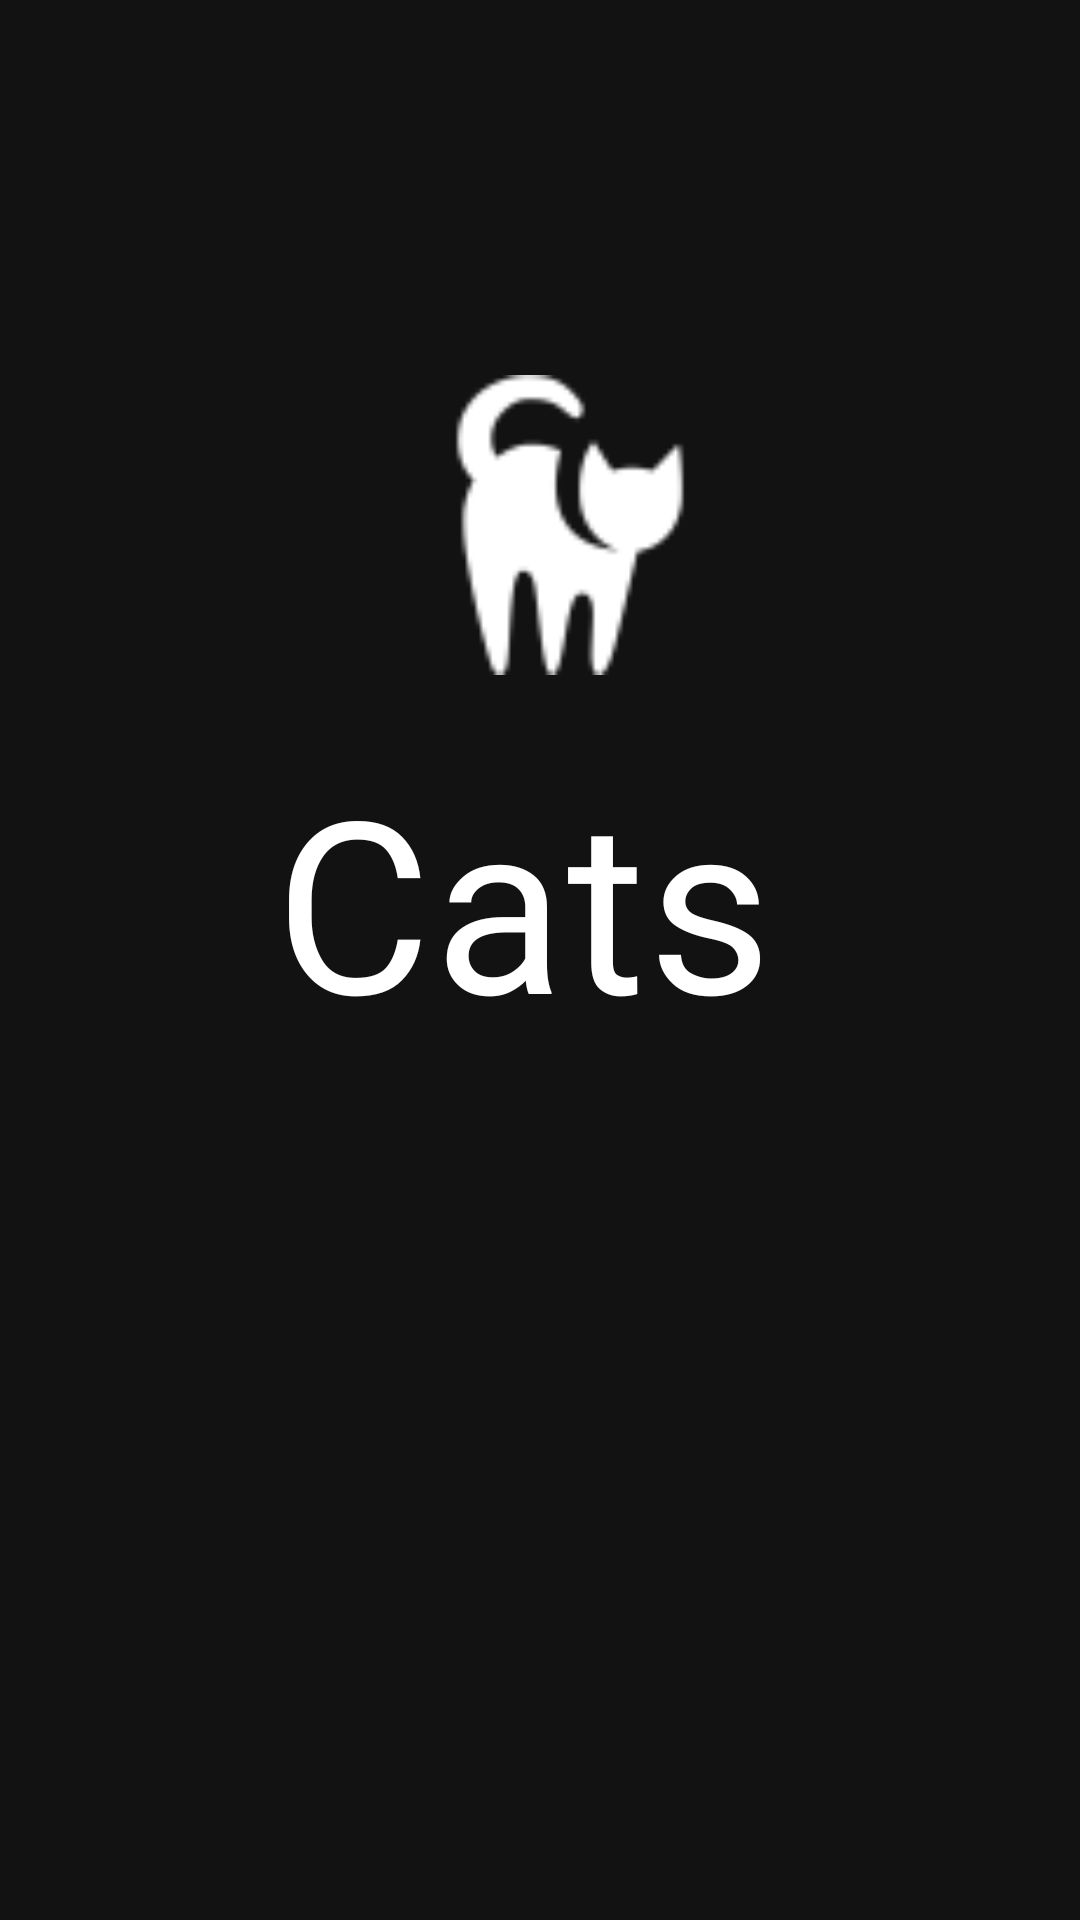

Screen size 1080w x 1920h. Icon name, then its box in pixels as {"x1": x1, "y1": y1, "x2": x2, "y2": y2}:
cat: {"x1": 456, "y1": 375, "x2": 684, "y2": 675}
